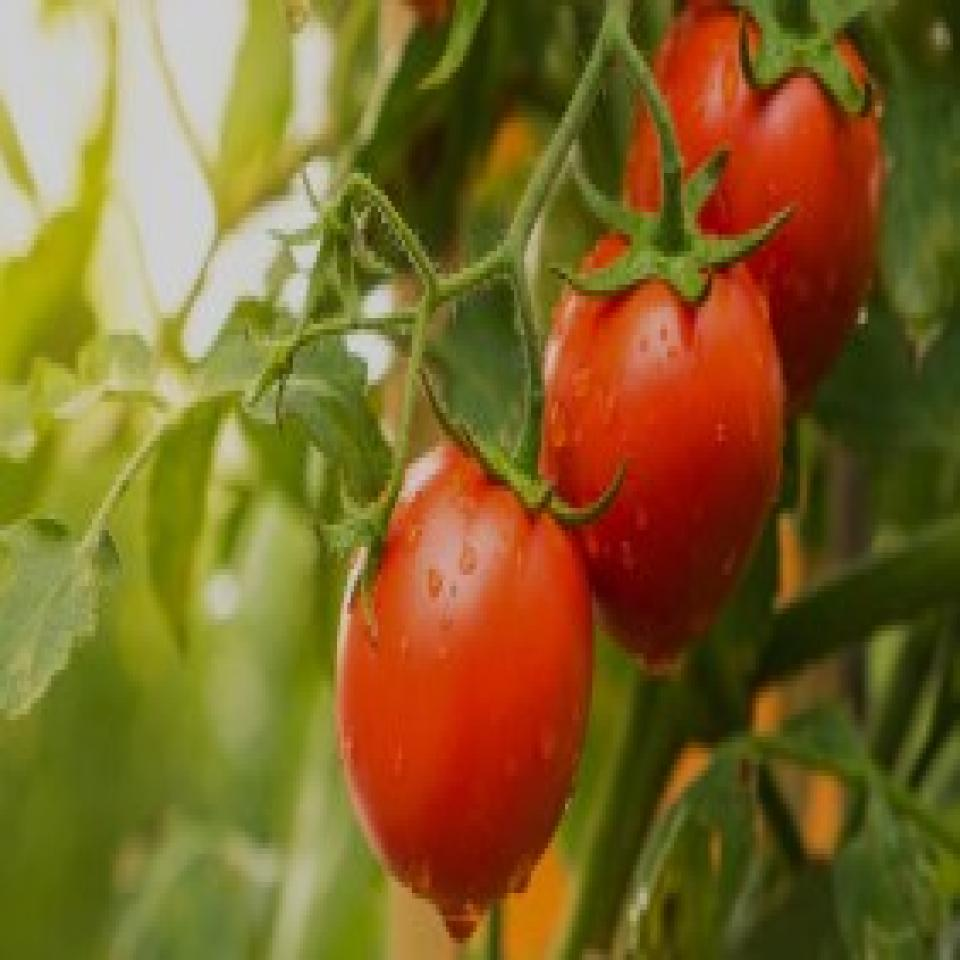Healthy: (610, 0, 886, 442), (344, 413, 578, 915), (549, 186, 787, 668)
